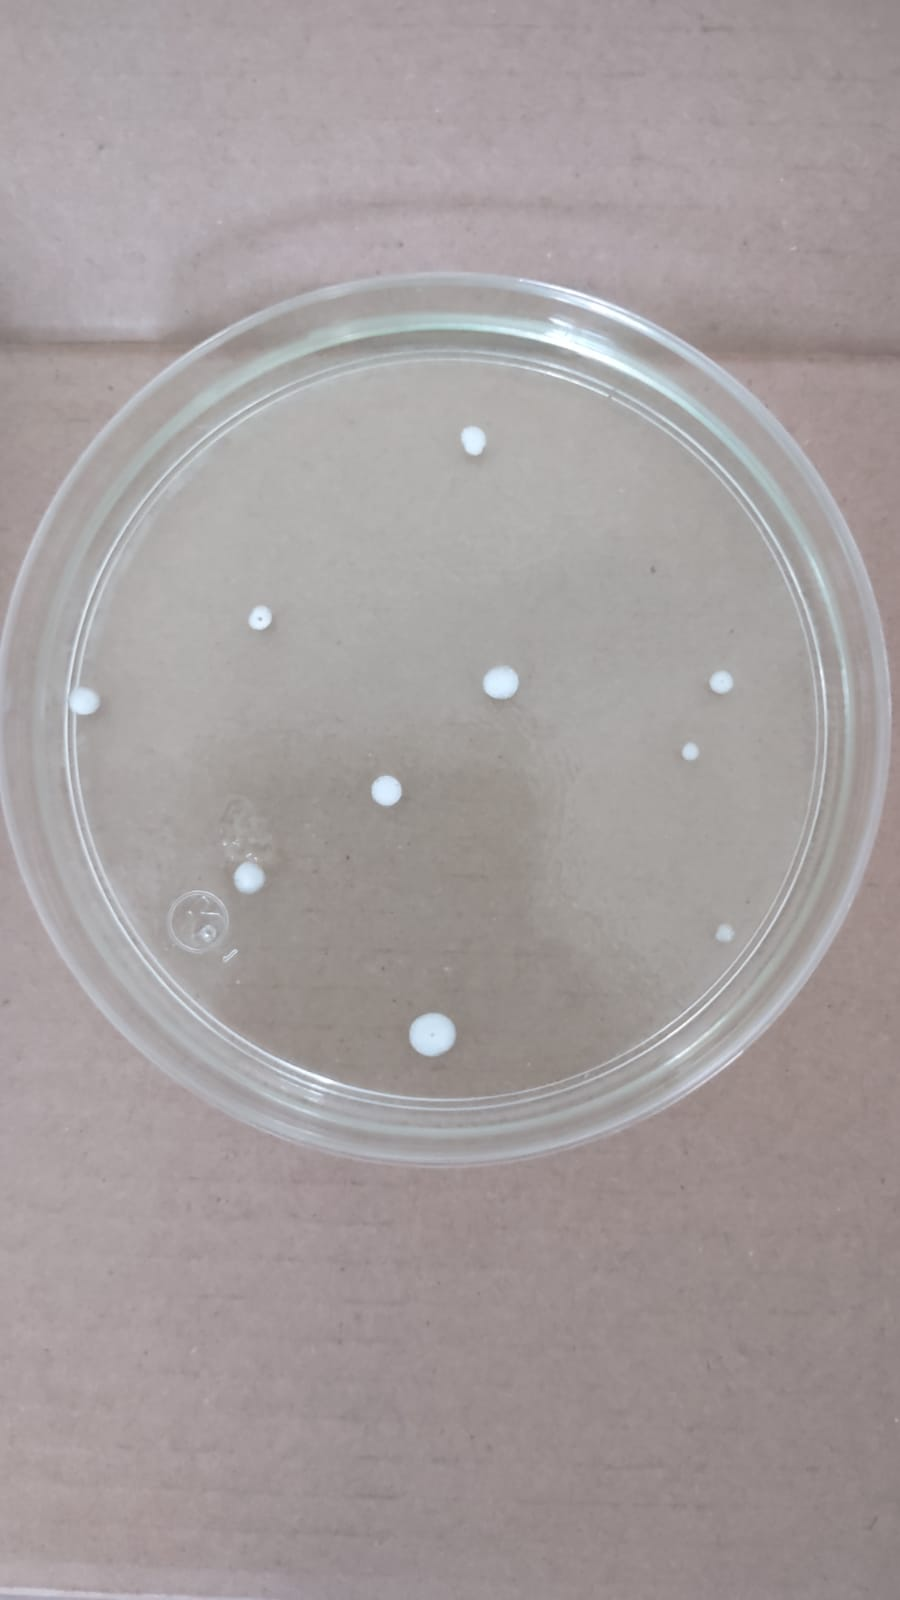Colonia: (408, 1007, 462, 1058), (482, 663, 527, 699), (457, 416, 493, 459), (367, 773, 407, 811), (232, 863, 271, 896), (67, 685, 105, 716), (243, 604, 277, 632), (707, 669, 737, 695), (713, 920, 738, 946), (680, 738, 705, 763)
